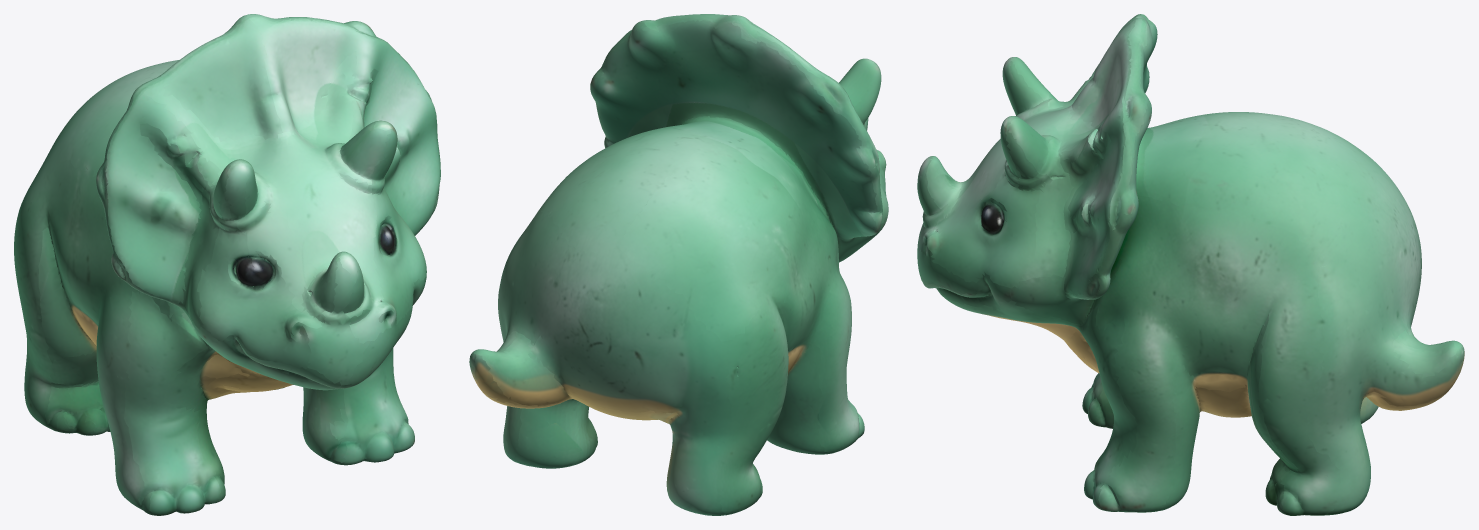
The model's file is triceratops.glb.
3 views of the same model, side by side, from view 1: azimuth 30°, elevation 25°; view 2: azimuth 150°, elevation 25°; view 3: azimuth 270°, elevation 25° (orthographic). The views are drawn at different scales.
Visible parts, largest first — view 1: geometry_0; view 2: geometry_0; view 3: geometry_0.
Part boxes in pixels (bbox=[...]): geometry_0: bbox=[14, 14, 440, 515]; geometry_0: bbox=[469, 14, 888, 515]; geometry_0: bbox=[917, 14, 1464, 515].
Size of the model in its own units: 0.18 by 0.2394 by 0.2754.
1 material, 1 textured.
